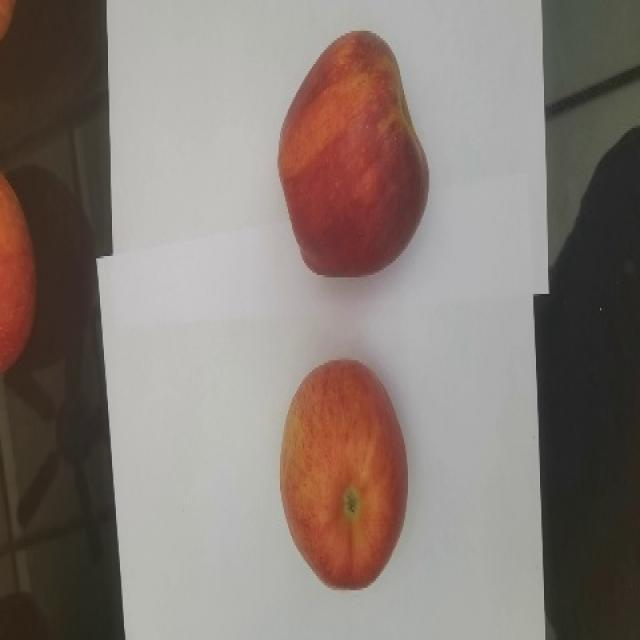Apple: (273, 29, 433, 280), (276, 357, 409, 591), (0, 172, 38, 378)
